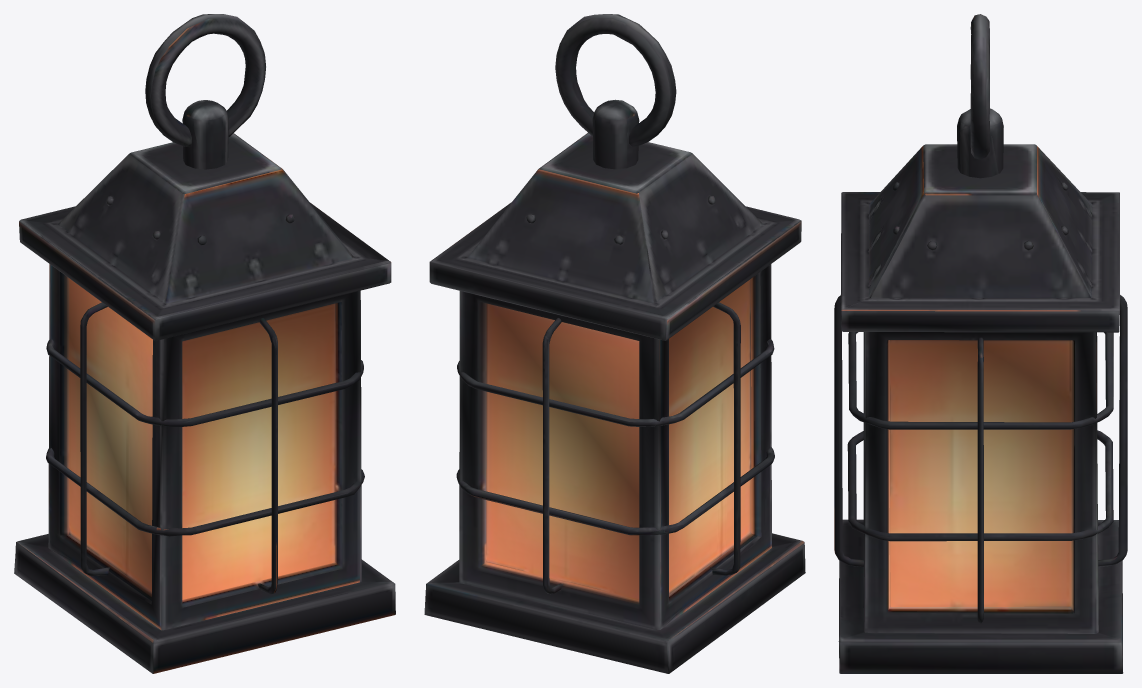
File: lantern.glb
3 views of the same model, side by side, from view 1: azimuth 30°, elevation 25°; view 2: azimuth 150°, elevation 25°; view 3: azimuth 270°, elevation 25° (orthographic). The views are drawn at different scales.
Size of the model in its own units: 0.3159 by 0.7 by 0.3138.
1 material, 1 textured.
